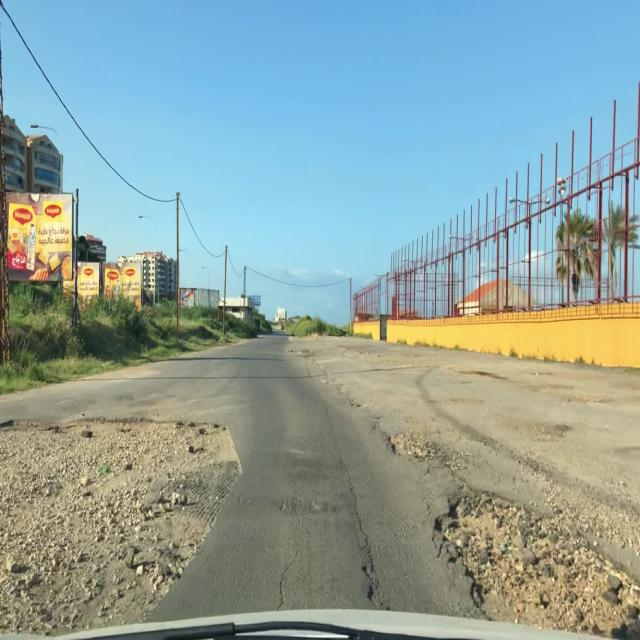Pothole: (2, 399, 248, 640), (429, 488, 640, 640), (381, 423, 467, 475), (286, 347, 314, 357)
